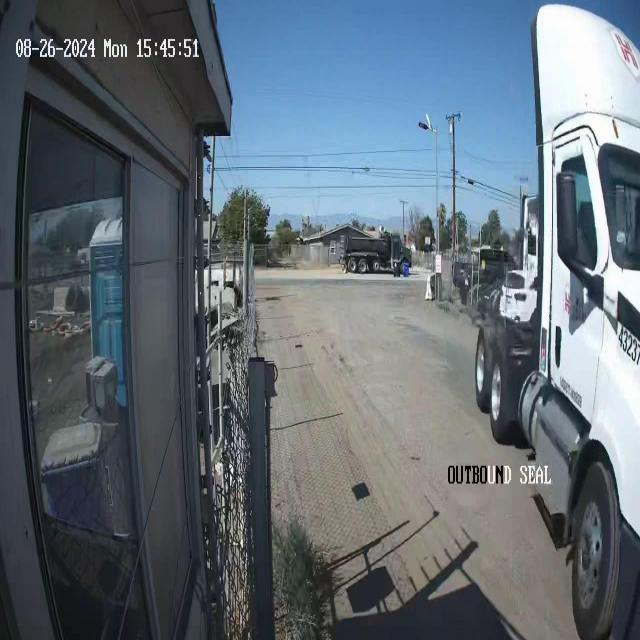TRUCK_IN: (472, 3, 639, 638)
